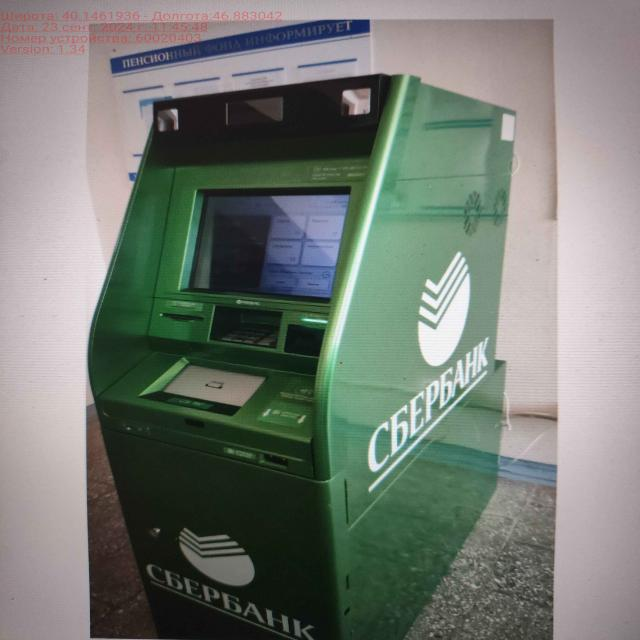bank: (90, 69, 509, 640)
